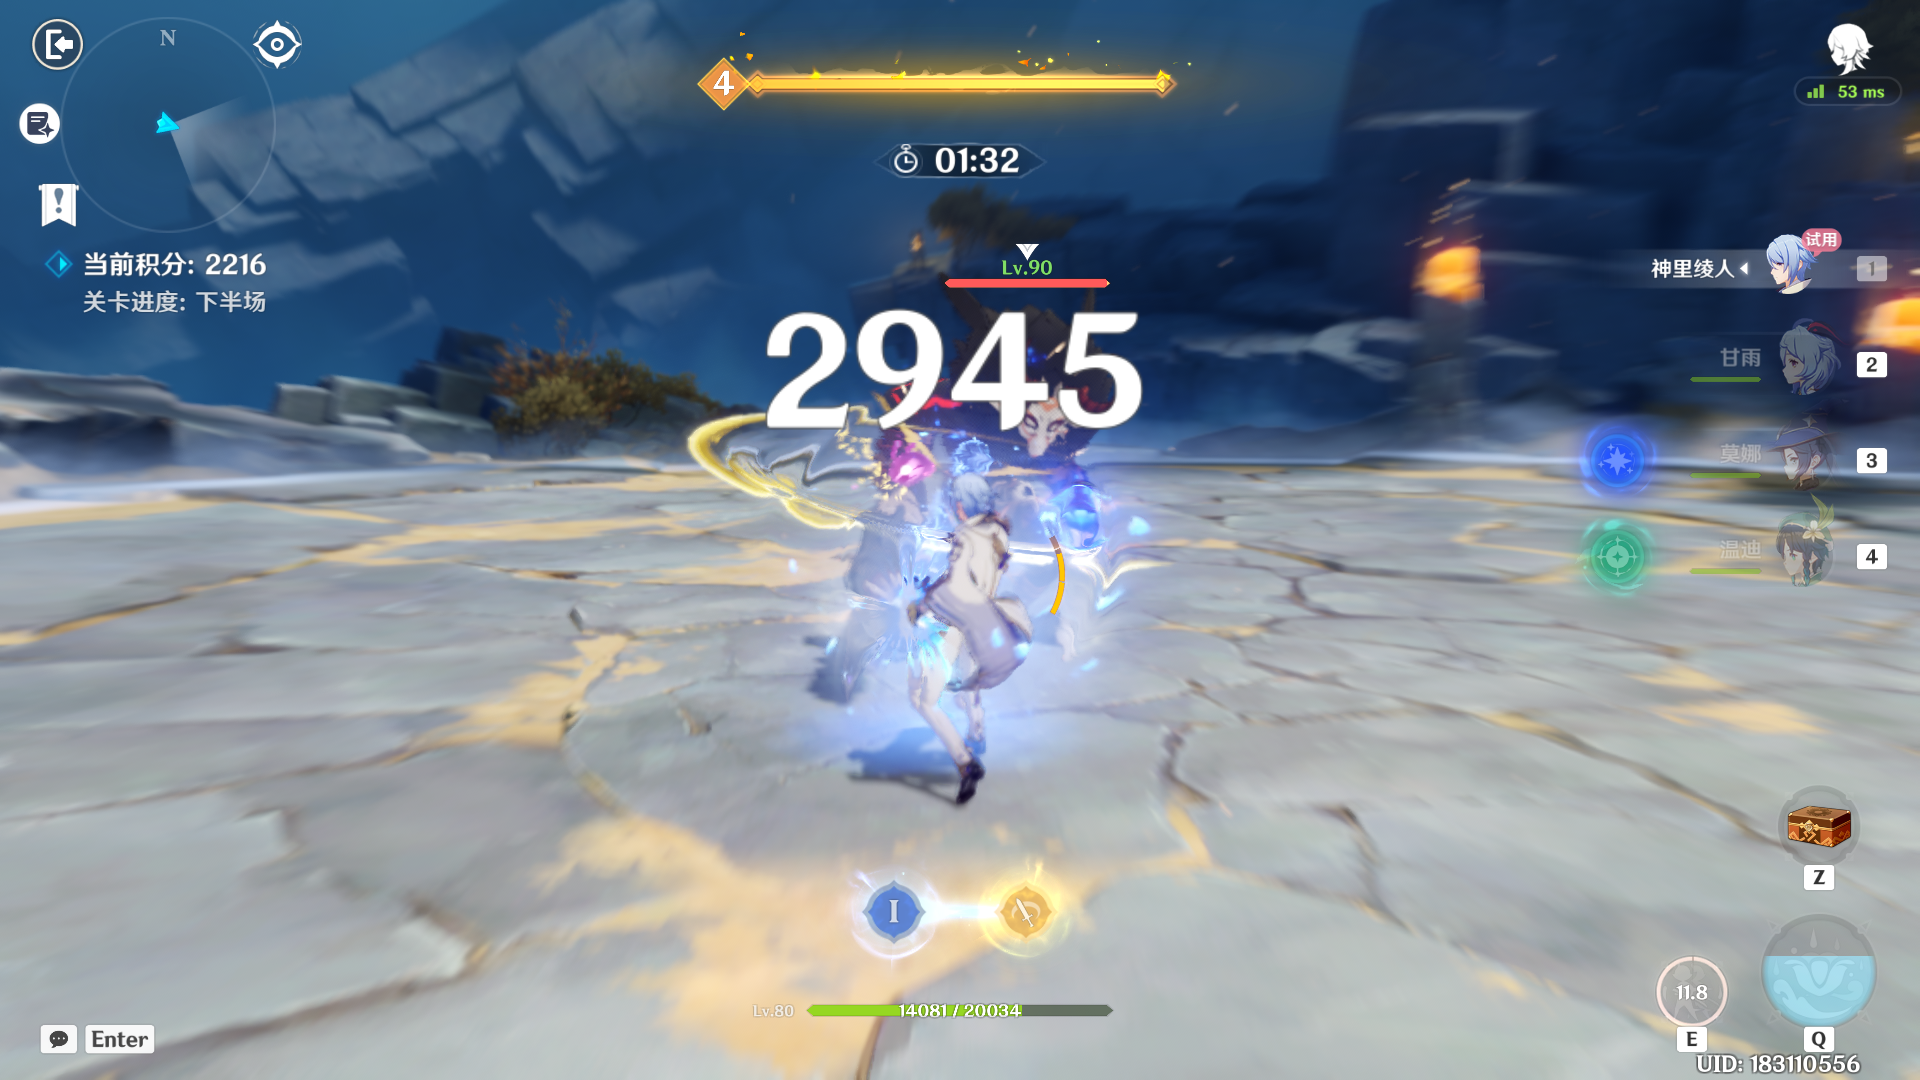bighili: (816, 262, 1141, 669)
character: (858, 448, 1116, 853)
